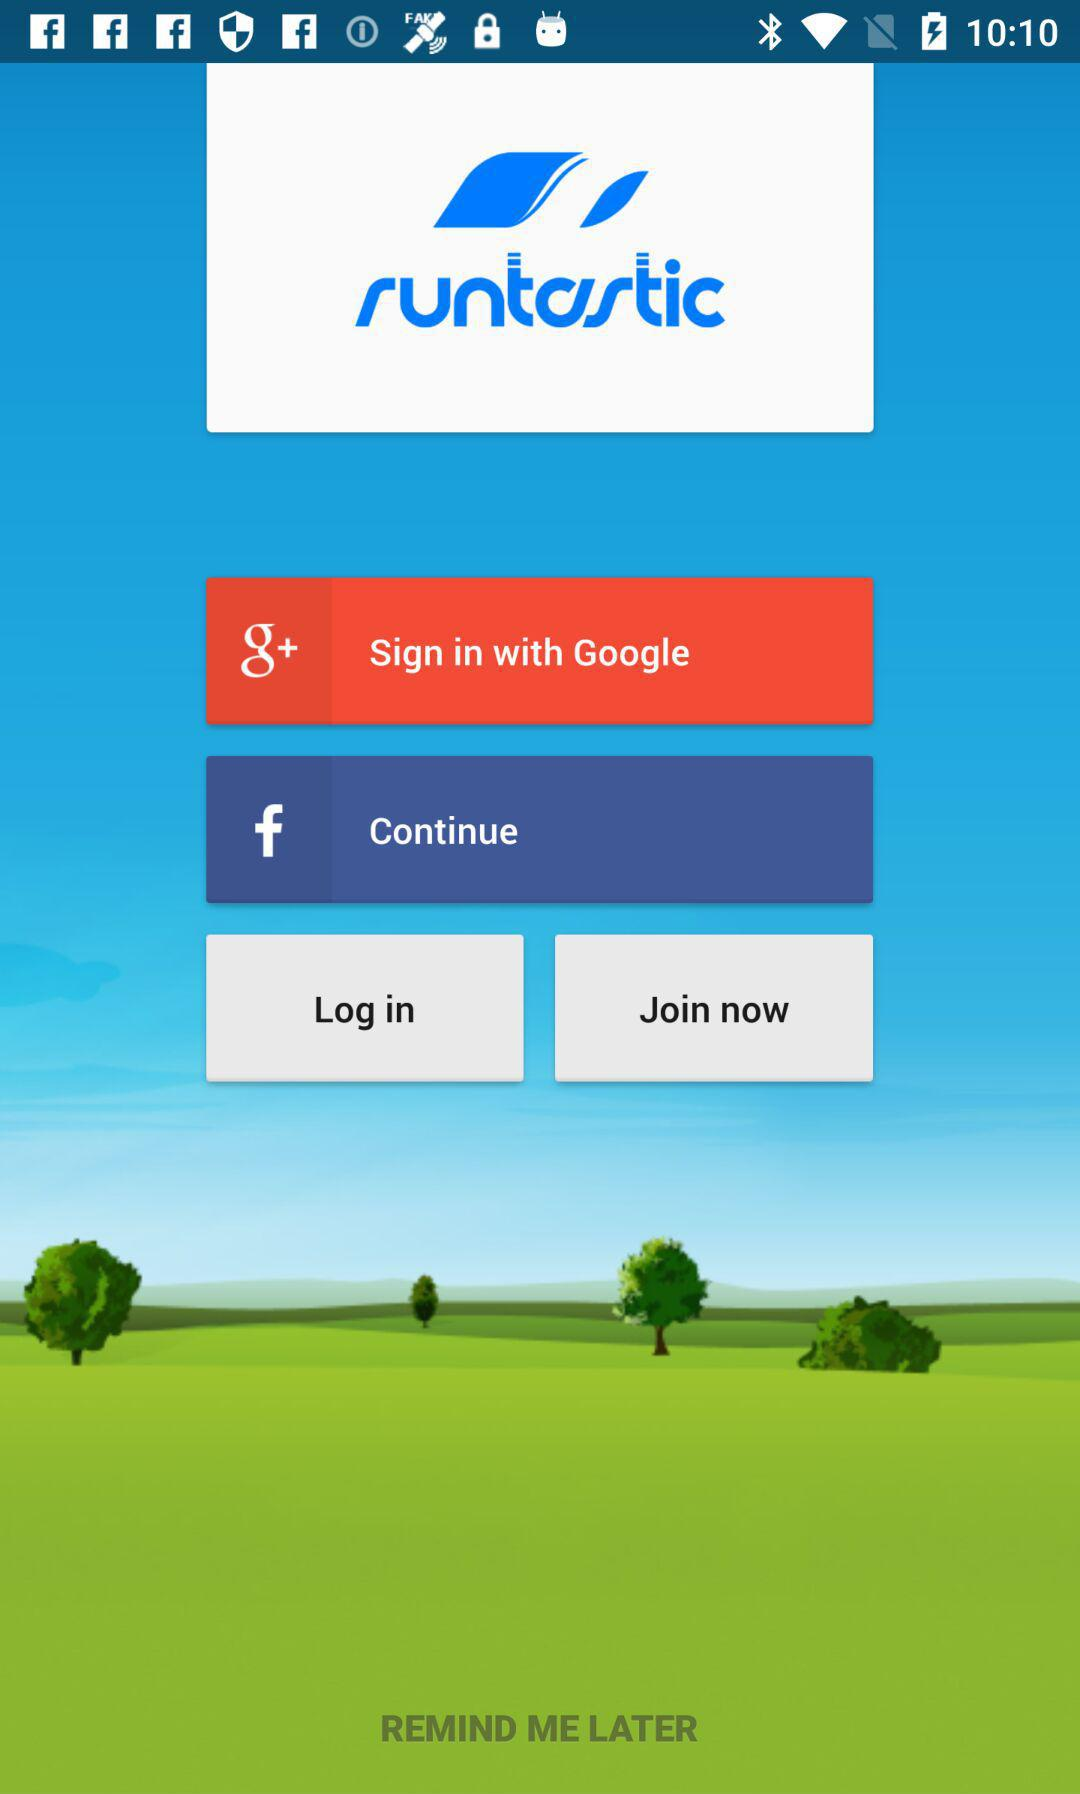Image: (208, 64, 874, 434)
Text: (380, 1715, 698, 1743)
TextButton: (206, 756, 874, 903), (206, 578, 874, 725), (553, 934, 874, 1083), (206, 935, 525, 1083)
UpperTaskBar: (1, 1, 1080, 64)
